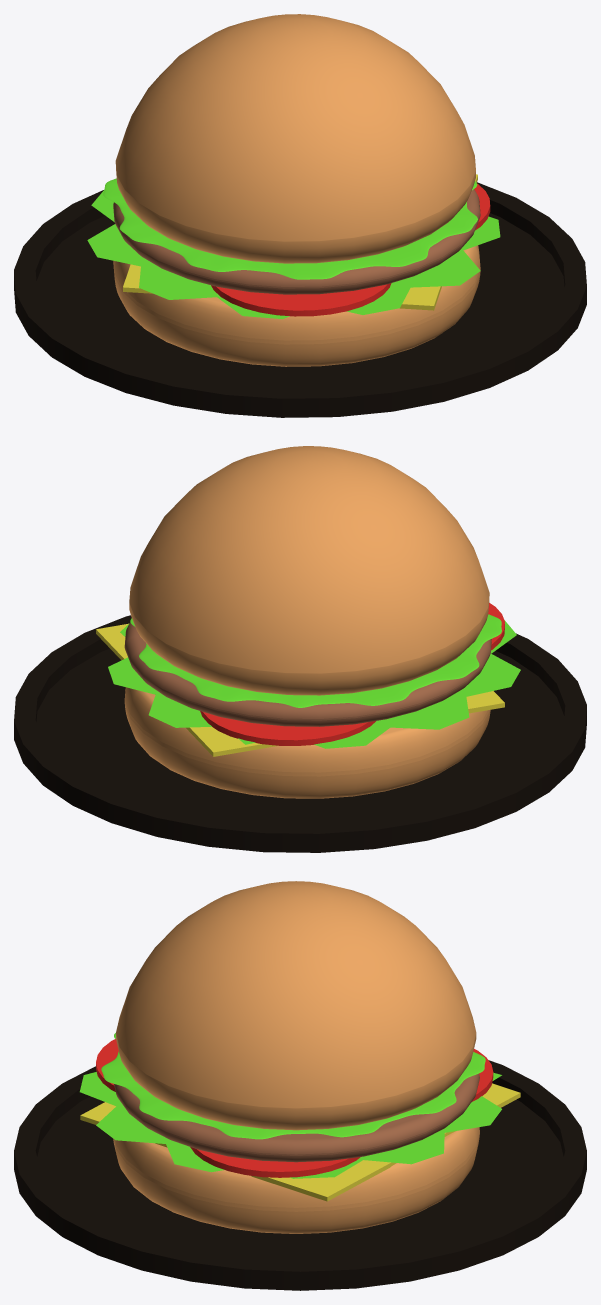
The model's file is burgerNew.gltf.
3 renders of one model, top to bottom at view 1: azimuth 30°, elevation 25°; view 2: azimuth 150°, elevation 25°; view 3: azimuth 270°, elevation 25°, orthographic.
Visible parts, largest first — view 1: Sphere, Circle.007, Circle.006, Circle.005, Circle.001, Circle, Circle.004, Plane; view 2: Sphere, Circle.007, Circle.006, Circle.001, Circle.005, Circle, Circle.003, Plane; view 3: Sphere, Circle.007, Circle.006, Circle.001, Circle.005, Circle, Plane, Circle.002, Circle.004.
Part boxes in pixels (left/top/right/bottom): Sphere: left=115, top=14, right=475, bottom=263; Circle.007: left=14, top=182, right=586, bottom=417; Circle.006: left=113, top=245, right=480, bottom=366; Circle.005: left=87, top=190, right=500, bottom=319; Circle.001: left=113, top=189, right=480, bottom=294; Circle: left=103, top=178, right=477, bottom=279; Circle.004: left=211, top=283, right=391, bottom=316; Plane: left=123, top=174, right=477, bottom=310; Sphere: left=129, top=446, right=489, bottom=695; Circle.007: left=14, top=615, right=586, bottom=852; Circle.006: left=124, top=687, right=490, bottom=798; Circle.001: left=124, top=622, right=491, bottom=726; Circle.005: left=108, top=620, right=520, bottom=748; Circle: left=130, top=614, right=501, bottom=707; Circle.003: left=200, top=711, right=375, bottom=745; Plane: left=96, top=623, right=504, bottom=756; Sphere: left=116, top=881, right=476, bottom=1130; Circle.007: left=14, top=1060, right=586, bottom=1290; Circle.006: left=113, top=1127, right=479, bottom=1233; Circle.001: left=114, top=1073, right=479, bottom=1162; Circle.005: left=79, top=1072, right=501, bottom=1178; Circle: left=101, top=1033, right=485, bottom=1139; Plane: left=80, top=1083, right=520, bottom=1201; Circle.002: left=190, top=1147, right=360, bottom=1177; Circle.004: left=96, top=1039, right=118, bottom=1091.
Size of the model in its own units: 3.12 by 1.61 by 3.12.
